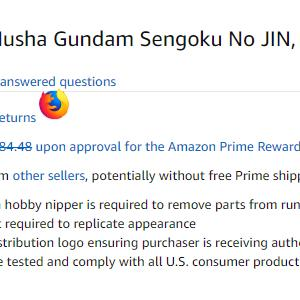firefox: (39, 88, 69, 120)
